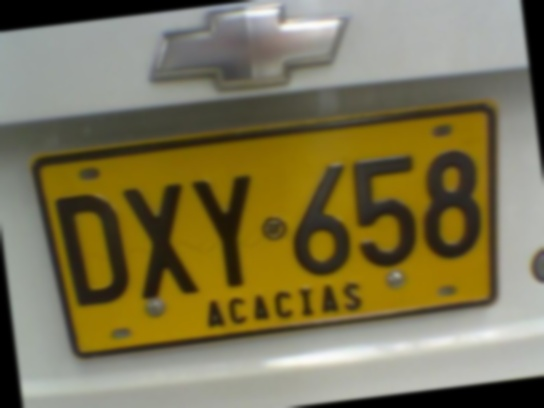placas: (23, 92, 523, 367)
